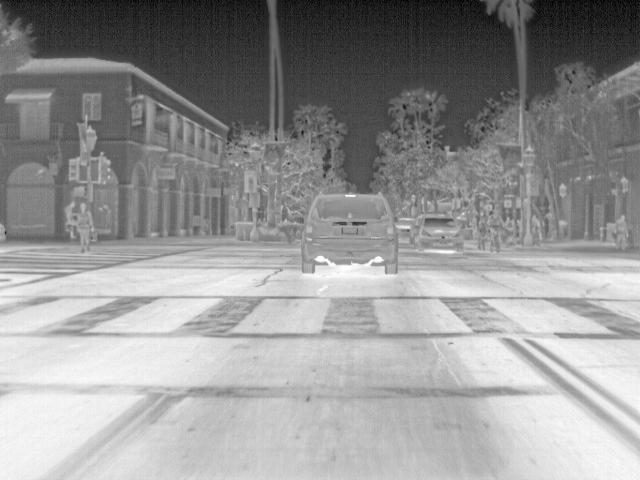car: (299, 190, 399, 276), (413, 211, 465, 248), (393, 215, 417, 239)
person: (76, 201, 95, 252), (63, 201, 79, 241), (614, 214, 629, 252), (489, 211, 503, 242), (479, 210, 491, 232)
